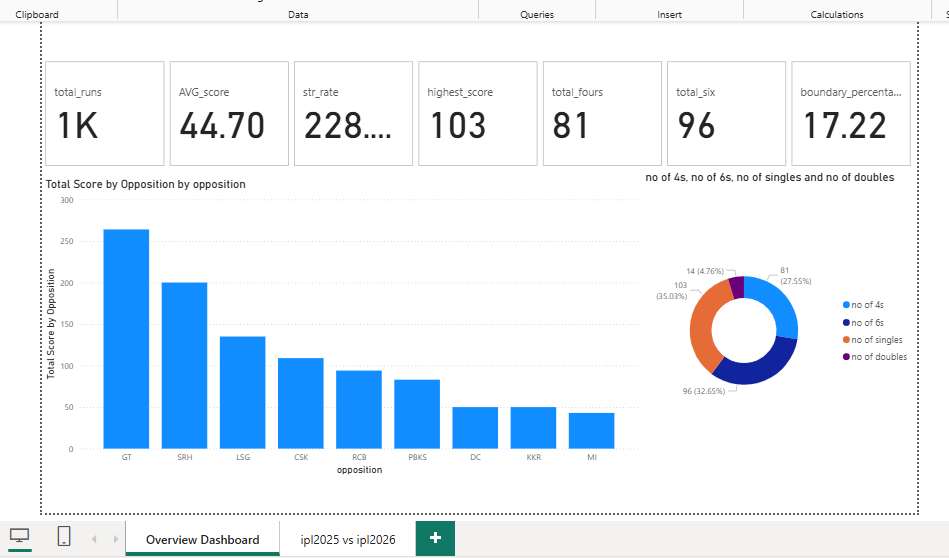

Layout of this report page (visuals, bound fields, positions):
{"tool":"powerbi","page":{"name":"Overview Dashboard","canvas":[1280,720],"ordinal":0},"visuals":[{"type":"cardVisual","fields":{"Data":["Average_score.total_runs","Average_score.AVG_score","Average_score.str_rate","Average_score.highest_score","Average_score.total_fours","Average_score.total_six","Average_score.boundary_percentage"]},"box":[0,54.6,1280,163.7],"z":0},{"type":"clusteredColumnChart","fields":{"Category":["vaibhav_sooryavanshi_ipl_data.opposition"],"Y":["Sum(vaibhav_sooryavanshi_ipl_data.score)"]},"box":[0,228.3,878,440.5],"z":1000},{"type":"donutChart","fields":{"Y":["Sum(vaibhav_sooryavanshi_ipl_data.4s)","Sum(vaibhav_sooryavanshi_ipl_data.6s)","Sum(vaibhav_sooryavanshi_ipl_data.singles)","Sum(vaibhav_sooryavanshi_ipl_data.doubles)"]},"box":[878,218,402.4,450.7],"z":2000}]}

Visuals, with their boxes on the page's 1280x720 design canvas (x1, y1, x2, y2). These are canvas units, not pixel positions in the 949x558 screenshot, which may show the page scaled, cropped or inside an application window:
cardVisual - Average_score.total_runs x Average_score.AVG_score: rect(0, 55, 1280, 218)
clusteredColumnChart - vaibhav_sooryavanshi_ipl_data.opposition x Sum(vaibhav_sooryavanshi_ipl_data.score): rect(0, 228, 878, 669)
donutChart - Sum(vaibhav_sooryavanshi_ipl_data.4s) x Sum(vaibhav_sooryavanshi_ipl_data.6s): rect(878, 218, 1280, 669)
